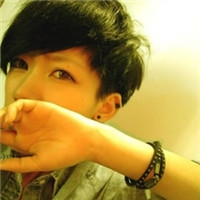face: (3, 36, 99, 151)
